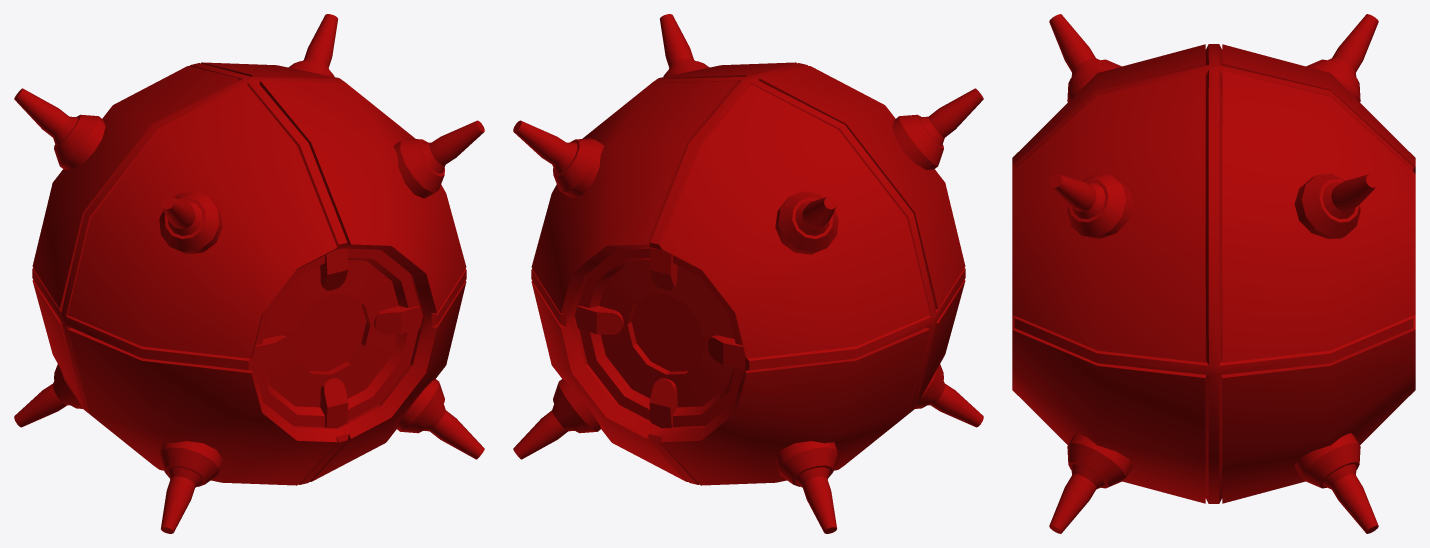
File: SM_Obstacle_Bomb_Destructible.fbx
3 renders of one model, left to right at view 1: azimuth 30°, elevation 25°; view 2: azimuth 150°, elevation 25°; view 3: azimuth 270°, elevation 25°, orthographic. The views are drawn at different scales.
Visible parts, largest first — view 1: SM_Bomb_Body_low, SM_Bomb_Spikes_low, SM_Emission_low, SM_Bomb_Eye_Holds_low; view 2: SM_Bomb_Body_low, SM_Bomb_Spikes_low, SM_Emission_low, SM_Bomb_Eye_Holds_low; view 3: SM_Bomb_Body_low, SM_Bomb_Spikes_low, SM_Emission_low.
Part boxes in pixels (x1=…): SM_Bomb_Body_low: x1=32, y1=62, x2=466, y2=485; SM_Bomb_Spikes_low: x1=14, y1=14, x2=484, y2=533; SM_Emission_low: x1=32, y1=63, x2=466, y2=484; SM_Bomb_Eye_Holds_low: x1=252, y1=248, x2=422, y2=428; SM_Bomb_Body_low: x1=531, y1=62, x2=965, y2=485; SM_Bomb_Spikes_low: x1=513, y1=14, x2=983, y2=533; SM_Emission_low: x1=531, y1=63, x2=965, y2=484; SM_Bomb_Eye_Holds_low: x1=575, y1=248, x2=745, y2=428; SM_Bomb_Body_low: x1=1012, y1=44, x2=1415, y2=503; SM_Bomb_Spikes_low: x1=1049, y1=14, x2=1378, y2=533; SM_Emission_low: x1=1014, y1=44, x2=1413, y2=503.
Size of the model in its own units: 1.96 by 1.96 by 1.73.
